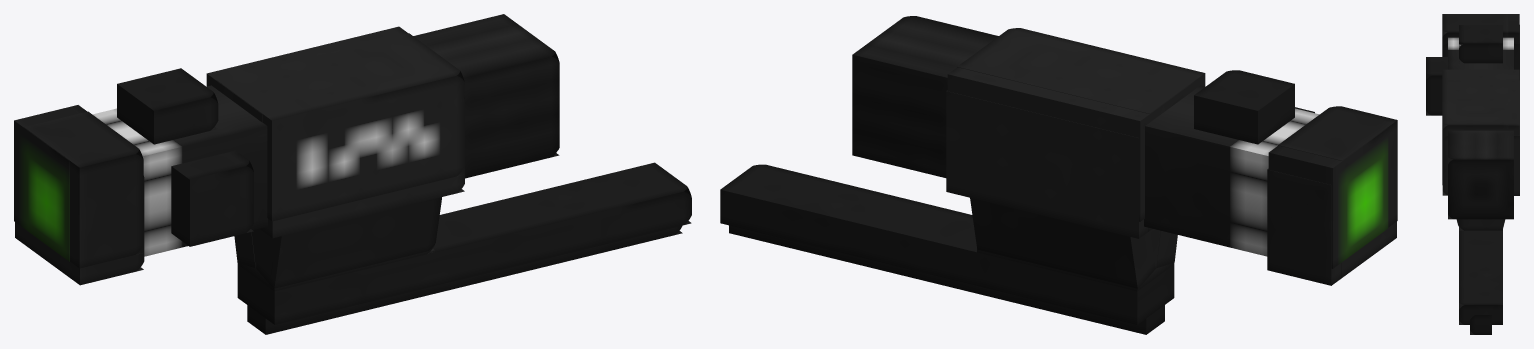
File: laser_sight.obj
The picture shows the model from 3 angles, left to right: view 1: azimuth 30°, elevation 25°; view 2: azimuth 150°, elevation 25°; view 3: azimuth 270°, elevation 25°; orthographic projection. The views are drawn at different scales.
Visible parts, largest first — view 1: Part_2, Part_12, Part_0, Part_8, Part_15, Part_6, Part_9, Part_5, Part_13, Part_1, Part_3, Part_7 (+2 smaller); view 2: Part_0, Part_12, Part_4, Part_2, Part_14, Part_9, Part_10, Part_3, Part_5, Part_8, Part_13, Part_11 (+2 smaller); view 3: Part_0, Part_2, Part_12, Part_5, Part_8, Part_6, Part_3, Part_11, Part_13, Part_4, Part_1, Part_9 (+2 smaller).
Part boxes in pixels (x1=…): Part_2: x1=216, y1=33, x2=464, y2=221; Part_12: x1=237, y1=162, x2=691, y2=324; Part_0: x1=92, y1=14, x2=559, y2=256; Part_8: x1=24, y1=111, x2=143, y2=268; Part_15: x1=256, y1=197, x2=441, y2=289; Part_6: x1=171, y1=150, x2=253, y2=246; Part_9: x1=14, y1=105, x2=86, y2=261; Part_5: x1=117, y1=68, x2=218, y2=144; Part_13: x1=247, y1=225, x2=682, y2=334; Part_1: x1=260, y1=98, x2=464, y2=238; Part_3: x1=206, y1=26, x2=407, y2=122; Part_7: x1=24, y1=176, x2=144, y2=285; Part_0: x1=852, y1=16, x2=1319, y2=256; Part_12: x1=720, y1=164, x2=1174, y2=324; Part_4: x1=946, y1=90, x2=1148, y2=238; Part_2: x1=957, y1=28, x2=1205, y2=113; Part_14: x1=970, y1=198, x2=1155, y2=289; Part_9: x1=1268, y1=127, x2=1388, y2=268; Part_10: x1=1267, y1=168, x2=1340, y2=285; Part_3: x1=947, y1=67, x2=1195, y2=221; Part_5: x1=1194, y1=70, x2=1294, y2=144; Part_8: x1=1278, y1=106, x2=1397, y2=227; Part_13: x1=729, y1=225, x2=1164, y2=334; Part_11: x1=977, y1=229, x2=1174, y2=291; Part_0: x1=1448, y1=37, x2=1513, y2=219; Part_2: x1=1442, y1=69, x2=1508, y2=184; Part_12: x1=1459, y1=227, x2=1502, y2=324; Part_5: x1=1459, y1=25, x2=1502, y2=63; Part_8: x1=1442, y1=14, x2=1508, y2=56; Part_6: x1=1426, y1=57, x2=1447, y2=115; Part_3: x1=1508, y1=69, x2=1519, y2=135; Part_11: x1=1459, y1=219, x2=1502, y2=230; Part_13: x1=1470, y1=315, x2=1491, y2=334; Part_4: x1=1514, y1=80, x2=1519, y2=195; Part_1: x1=1442, y1=124, x2=1453, y2=195; Part_9: x1=1508, y1=14, x2=1519, y2=42.
Bounding box in the file's own units: 1.22 × 0.4844 × 0.2669.
